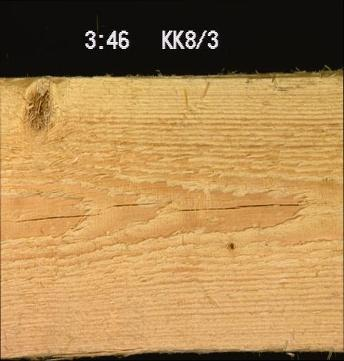small_knot: (224, 239, 236, 251)
sound_knot: (16, 76, 55, 137)
split: (175, 200, 299, 212), (11, 210, 97, 223), (99, 200, 157, 207)
wave: (0, 68, 343, 82)
